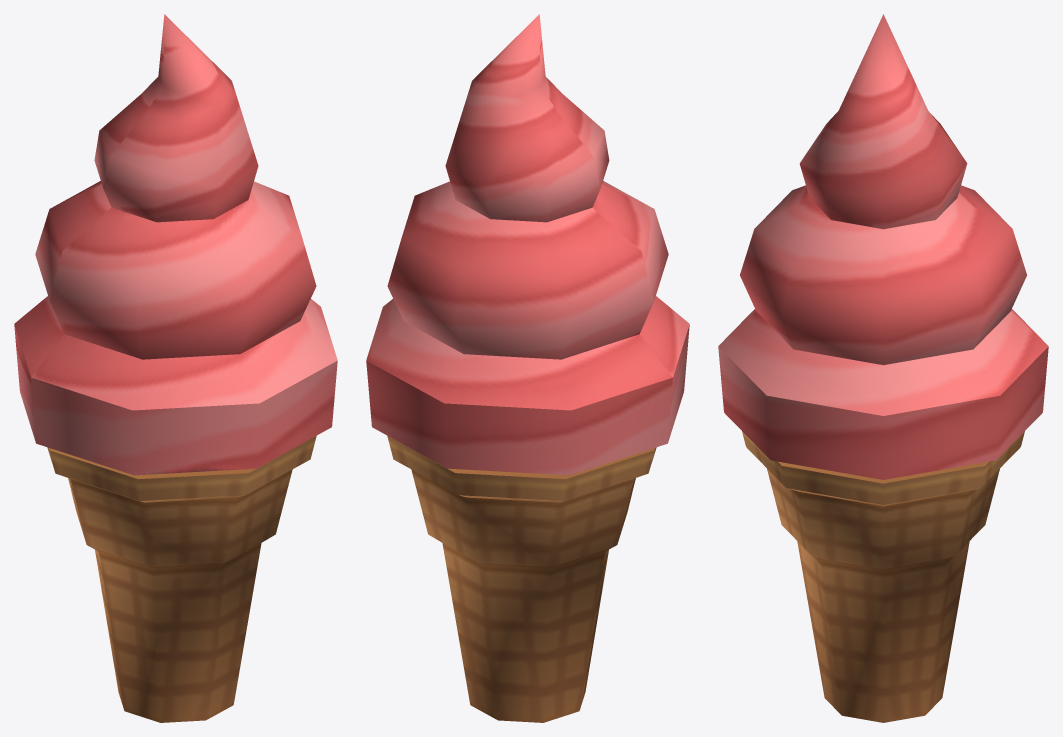
File: soft ice cream.FBX
The picture shows the model from 3 angles, left to right: view 1: azimuth 30°, elevation 25°; view 2: azimuth 150°, elevation 25°; view 3: azimuth 270°, elevation 25°; orthographic projection.
Parts seen in each view (by area): view 1: soft ice cream; view 2: soft ice cream; view 3: soft ice cream.
Boxes of the visible parts, bbox=[...] form: soft ice cream: bbox=[14, 14, 337, 722]; soft ice cream: bbox=[366, 14, 689, 722]; soft ice cream: bbox=[718, 14, 1048, 722].
Size of the model in its own units: 2.59 by 5.86 by 2.59.
